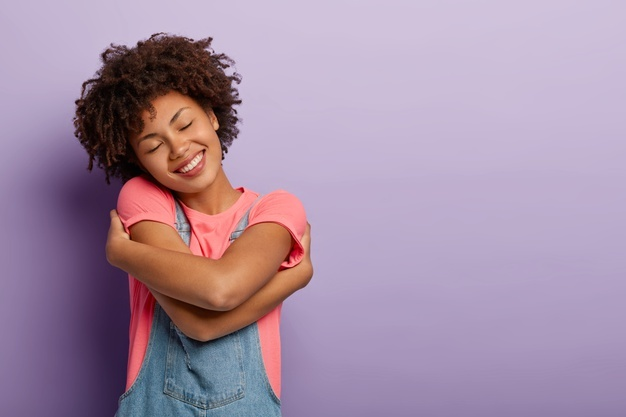Without Helmet: (74, 32, 245, 201)
